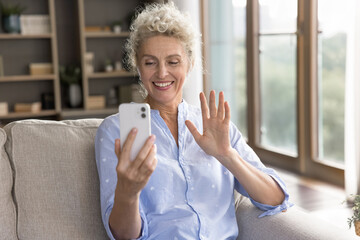Hello: (179, 86, 239, 157)
